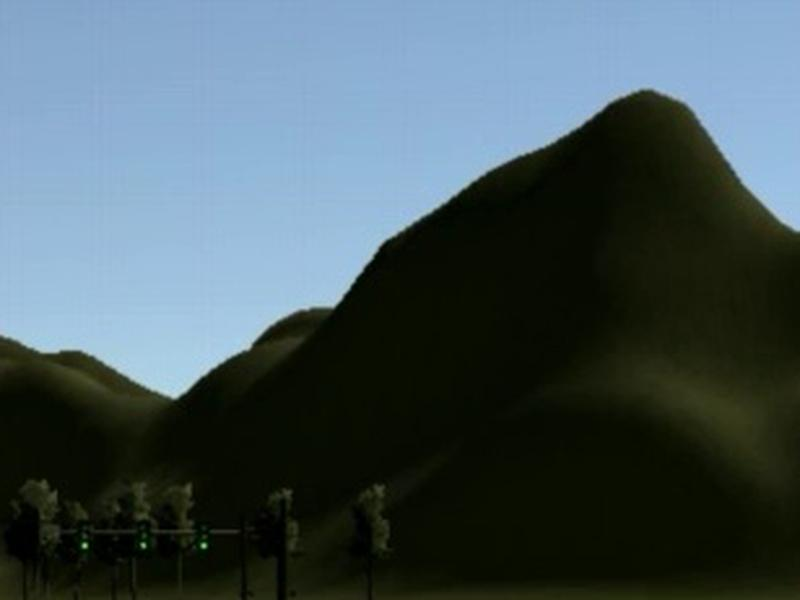Green: (197, 522, 211, 553), (137, 524, 150, 554), (79, 523, 91, 553)
